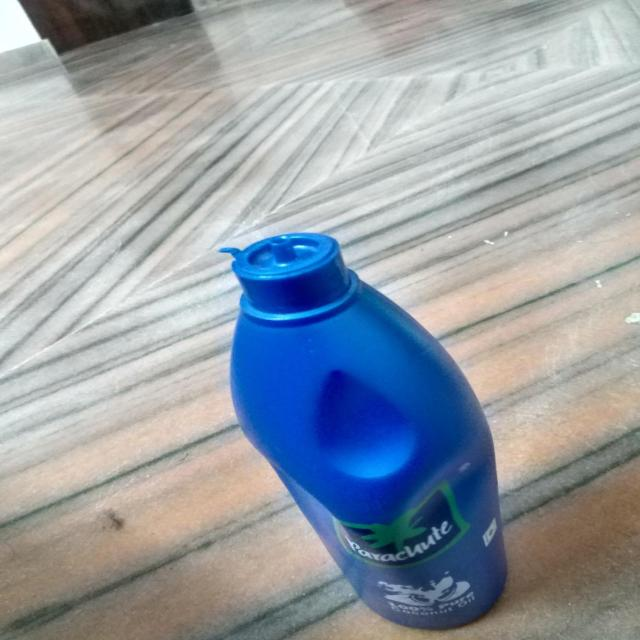parachute_oil: (157, 224, 549, 631)
